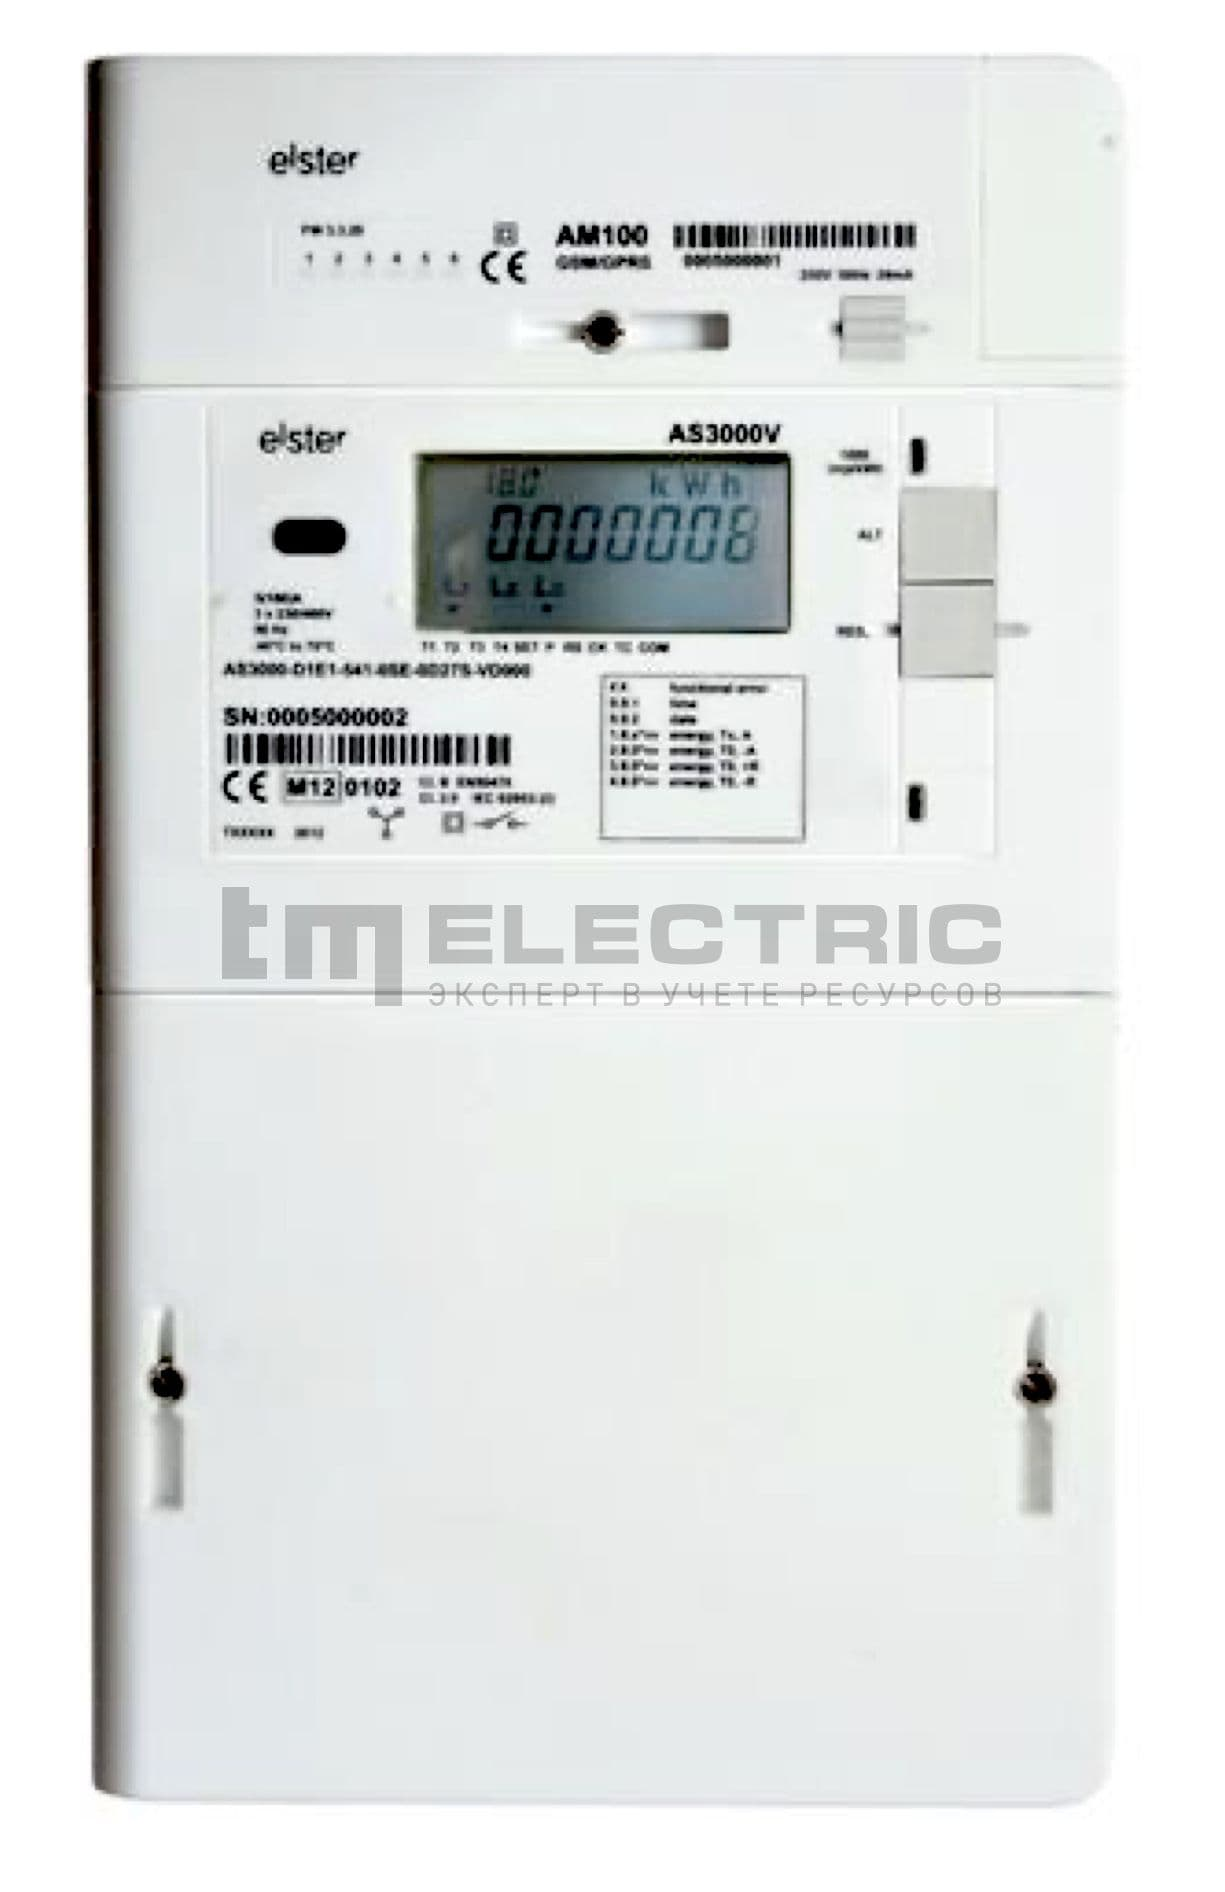counter: (81, 46, 1122, 1813)
counter_screen: (407, 439, 804, 650)
